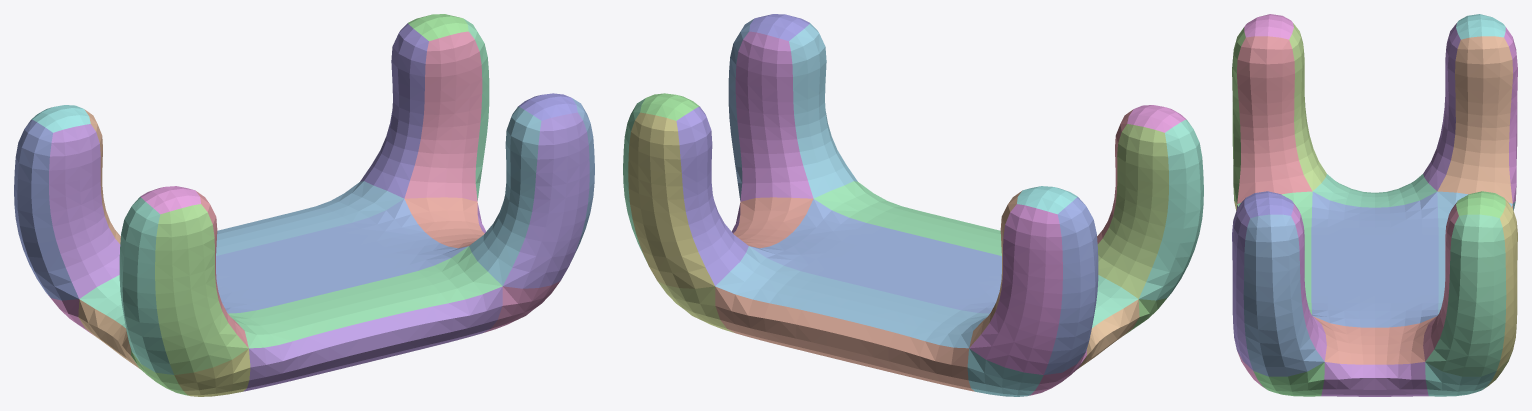
The model's file is table_patch_color.obj.
The picture shows the model from 3 angles, left to right: view 1: azimuth 30°, elevation 25°; view 2: azimuth 150°, elevation 25°; view 3: azimuth 270°, elevation 25°; orthographic projection. The views are drawn at different scales.
Bounding box in the file's own units: 3.89 × 1.77 × 2.13.
